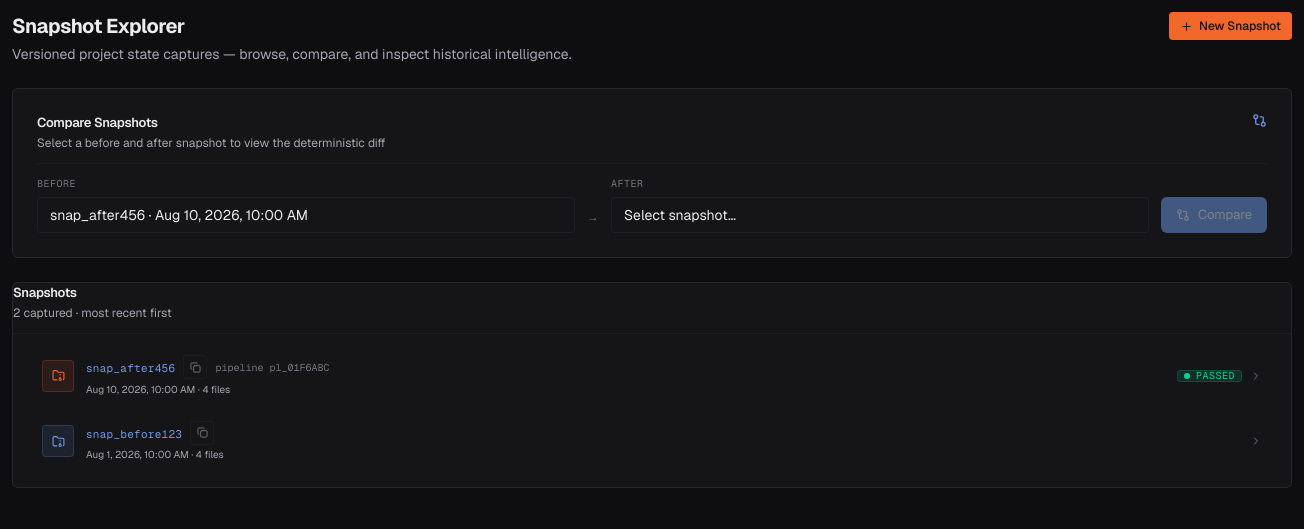
Scenario: Snapshots index › validates against comparing a snapshot with itself
The width and height of the screenshot is (1304, 529).
Select "snap_after456 · Aug 10, 2026, 10:00 AM" in the dropdown with test id "compare-before" at x=306, y=215, box x1=37 y1=197 x2=575 y2=233
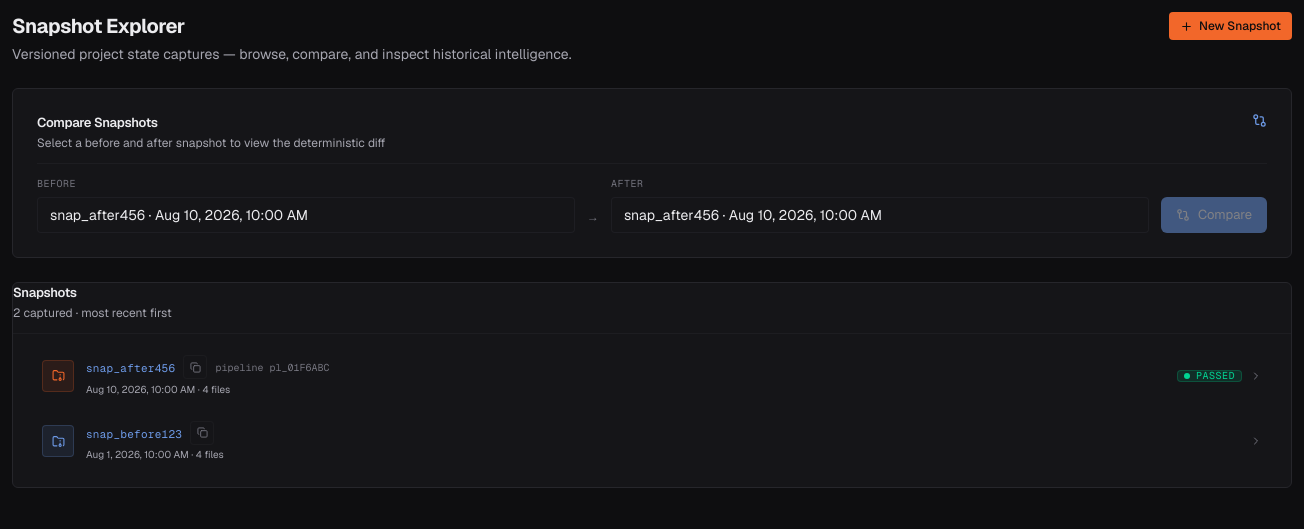
Select "snap_after456 · Aug 10, 2026, 10:00 AM" in the dropdown with test id "compare-after" at x=880, y=215, box x1=611 y1=197 x2=1149 y2=233
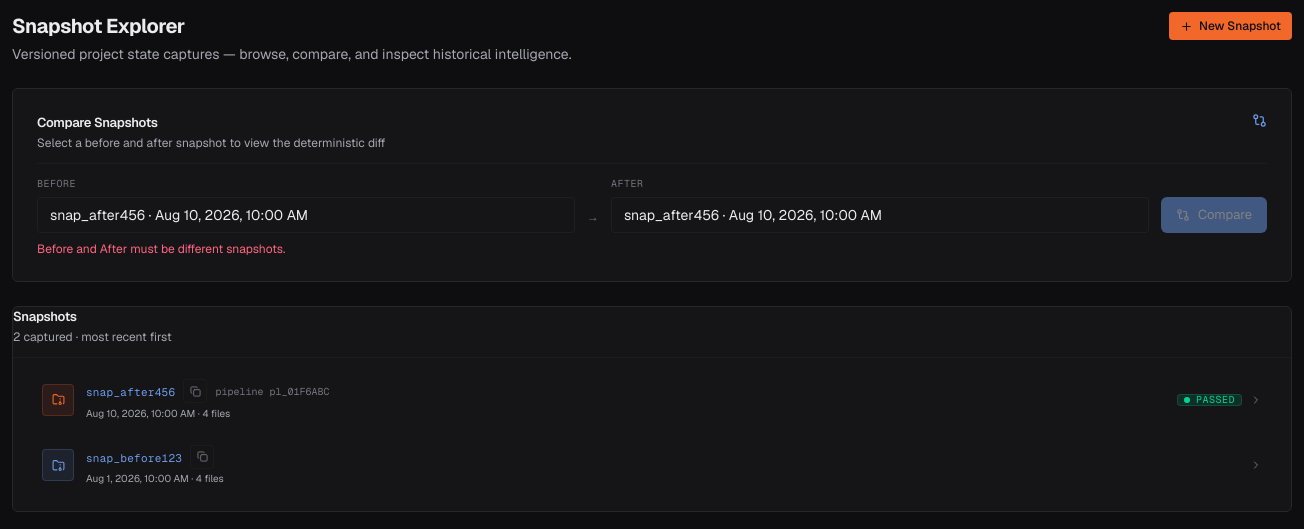
Expected: the button "Compare" is disabled, x1=1161 y1=197 x2=1267 y2=233
Expected: the text "Before and After must be different snapshots." is shown, x1=37 y1=241 x2=285 y2=257
